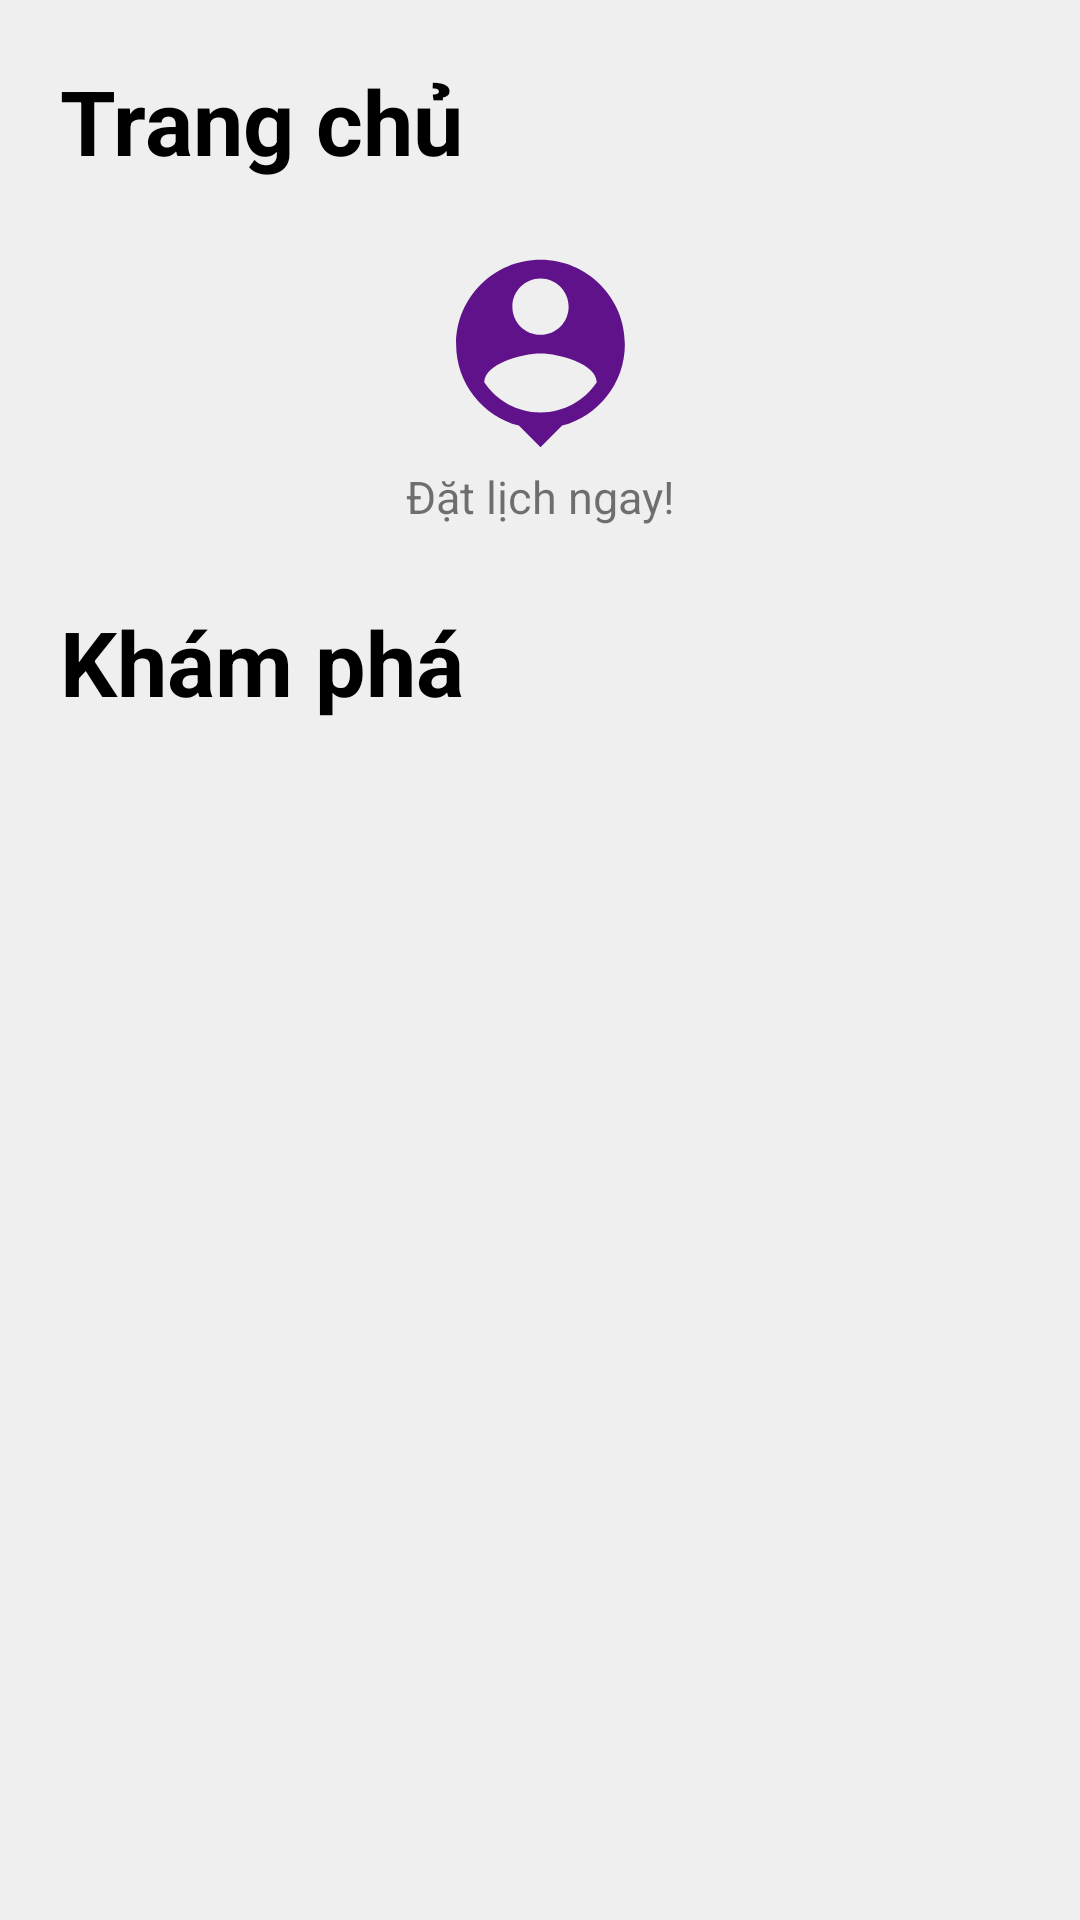

Icon click points for this 1080*1920 phone screenshot, format (x=x, y=y):
person pin: (x=540, y=353)
